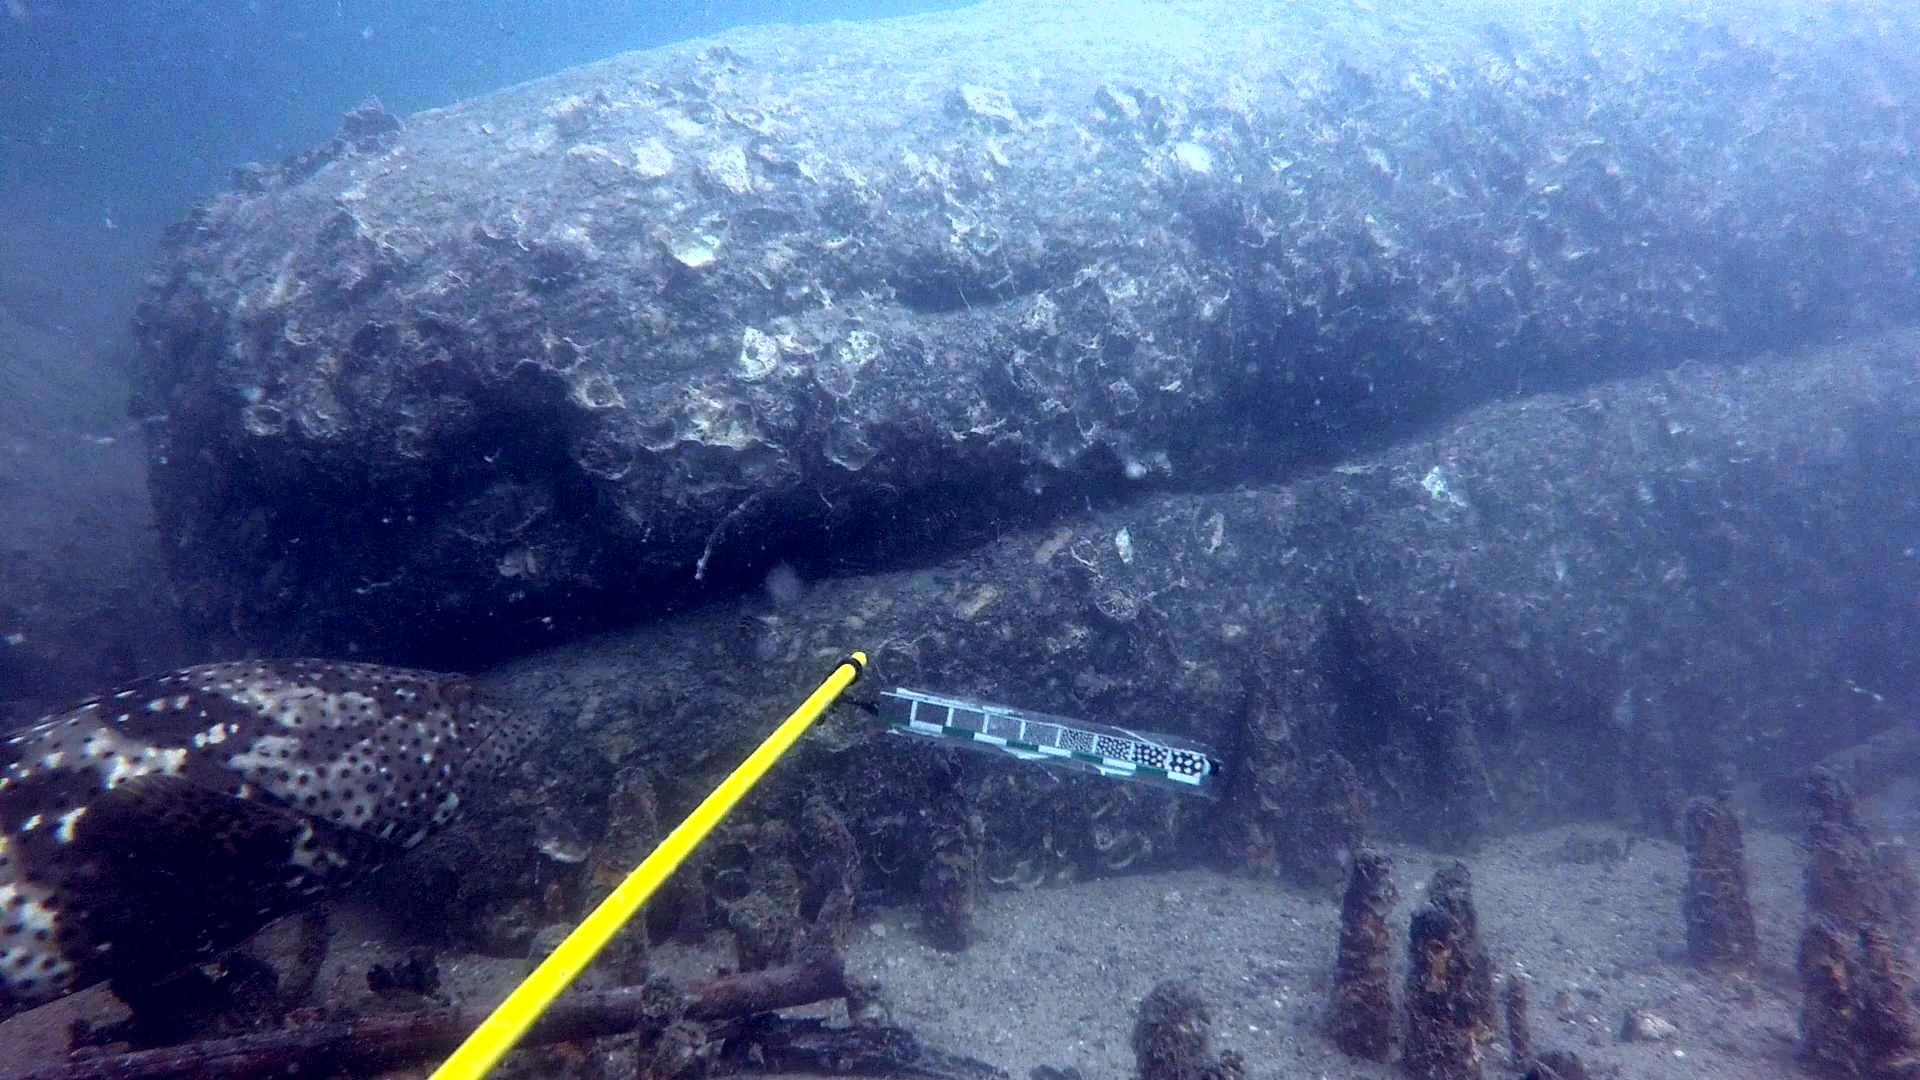epinephelus: (0, 647, 554, 1033)
